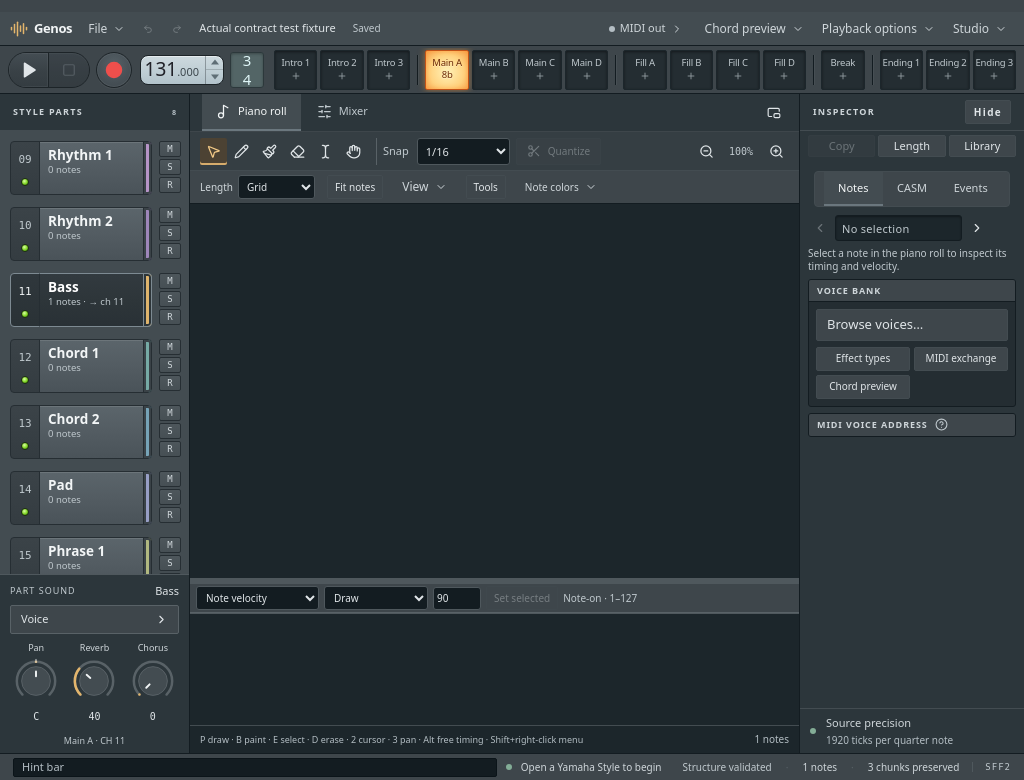
Test case: hides and shows the inspector panel
The width and height of the screenshot is (1024, 780).
(page scrolled)
Click the button with aria-label "Hide inspector" at {"x": 988, "y": 112}, box [965,100,1011,124]
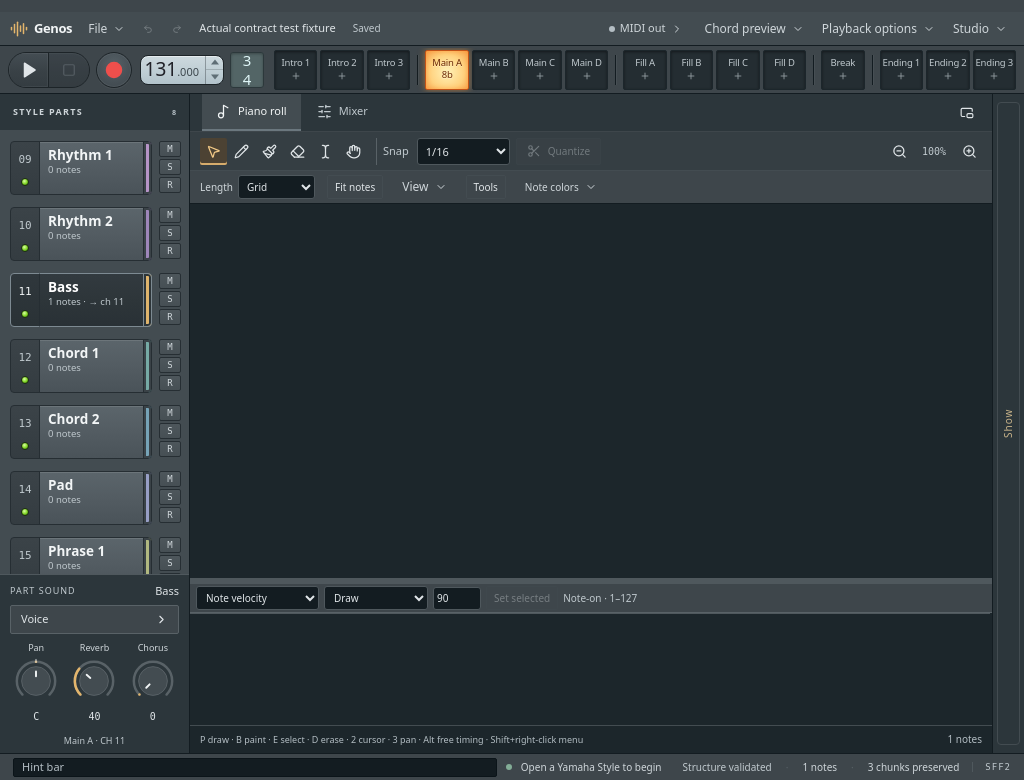
Check: the button with aria-label "Show inspector" is shown
Click the button with aria-label "Show inspector" at {"x": 1008, "y": 424}, box [997,102,1020,745]
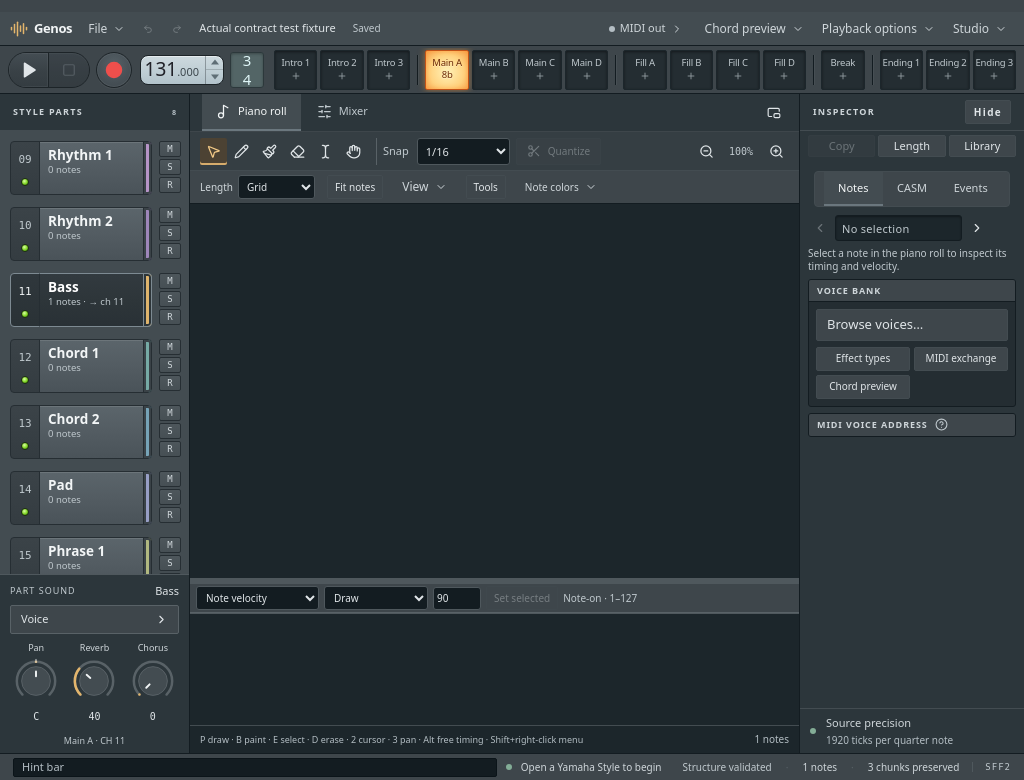
Check: the button with aria-label "Hide inspector" is shown, box [965,100,1011,124]
